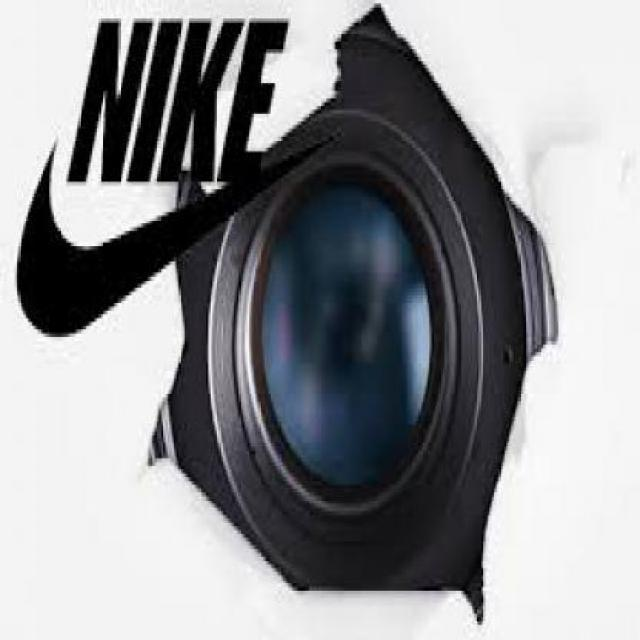Nike: (9, 8, 337, 341)
